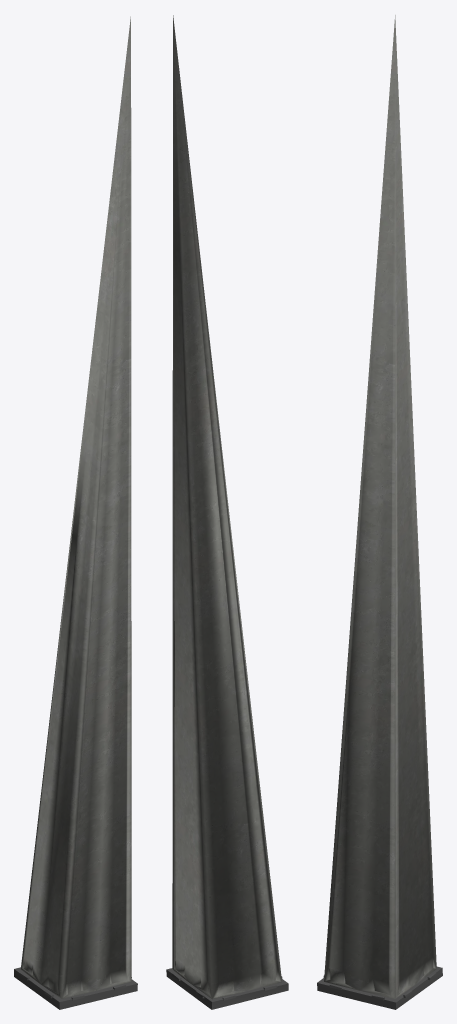
Rendered from column-lo.glb.
3 views of the same model, side by side, from view 1: azimuth 30°, elevation 25°; view 2: azimuth 210°, elevation 25°; view 3: azimuth 330°, elevation 25° (orthographic). The views are drawn at different scales.
Visible parts, largest first — view 1: body; view 2: body; view 3: body.
Boxes of the visible parts, left/top/right/bottom form: body: left=14, top=16, right=137, bottom=1009; body: left=166, top=15, right=288, bottom=1009; body: left=317, top=15, right=442, bottom=1009.
Bounding box in the file's own units: 0.7362 × 8.49 × 0.7362.
2 materials, 1 textured.
